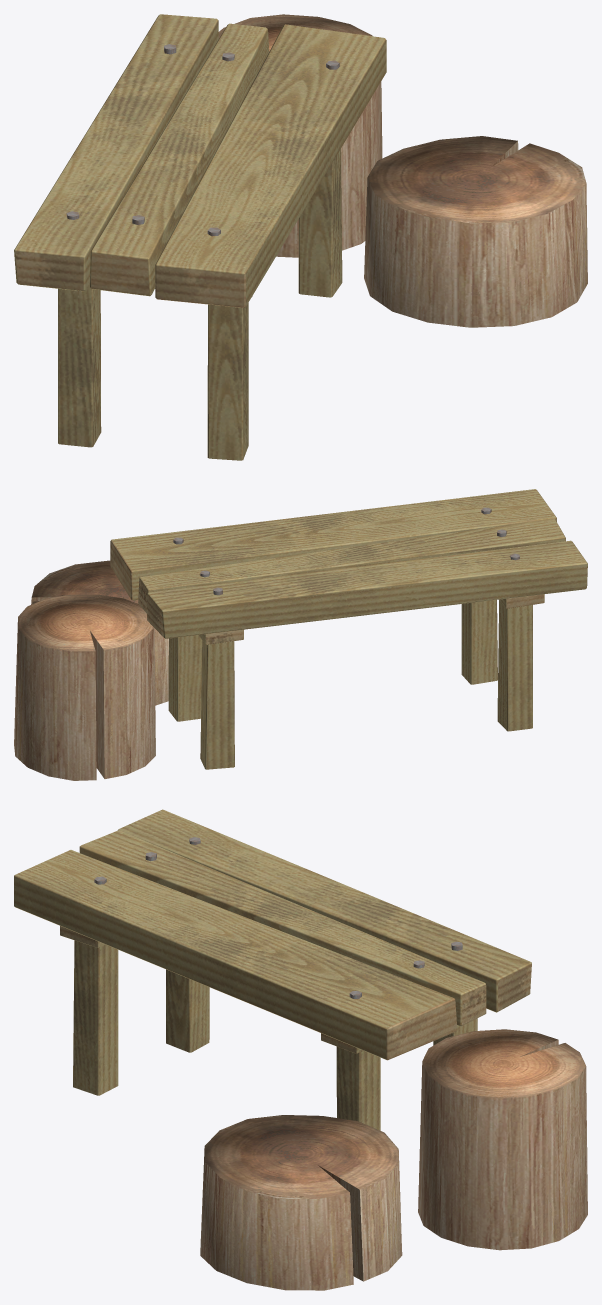
3 views of the same model, one above another, from view 1: azimuth 30°, elevation 25°; view 2: azimuth 150°, elevation 25°; view 3: azimuth 270°, elevation 25° (orthographic). The views are drawn at different scales.
Parts seen in each view (by area): view 1: Bridge00__RoomBaseSkill_C_001024; view 2: Bridge00__RoomBaseSkill_C_001024; view 3: Bridge00__RoomBaseSkill_C_001024.
Part boxes in pixels (left/top/right/bottom): Bridge00__RoomBaseSkill_C_001024: left=14, top=14, right=587, bottom=460; Bridge00__RoomBaseSkill_C_001024: left=14, top=489, right=587, bottom=780; Bridge00__RoomBaseSkill_C_001024: left=14, top=809, right=587, bottom=1290.
Size of the model in its own units: 2.12 by 0.722 by 1.82.
Materials: 1 (1 with a texture image).
